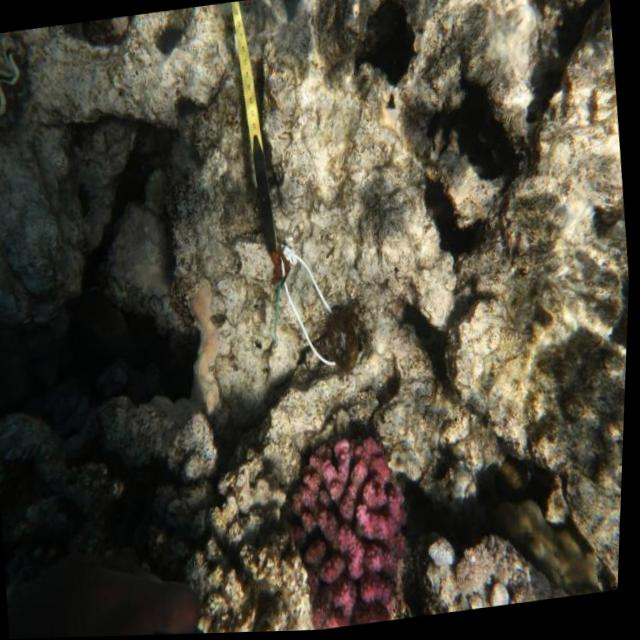Healthy Coral: (275, 427, 424, 633)
